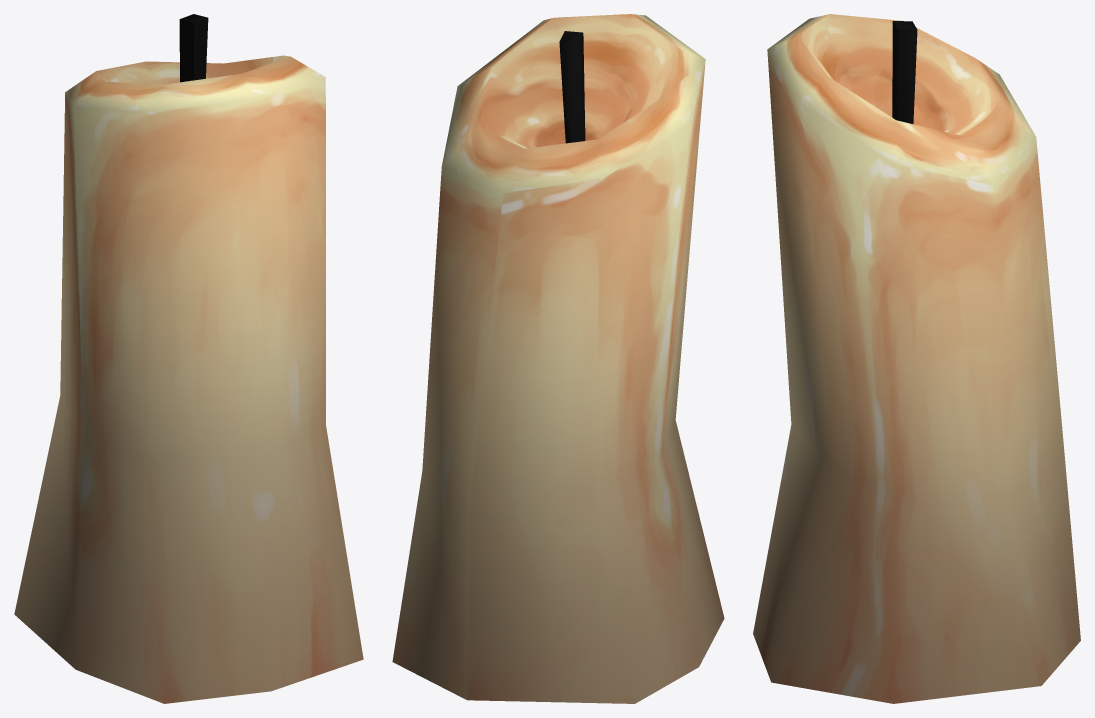
The model's file is SM_PROP_candle_01.fbx.
The picture shows the model from 3 angles, left to right: view 1: azimuth 30°, elevation 25°; view 2: azimuth 150°, elevation 25°; view 3: azimuth 270°, elevation 25°; orthographic projection.
Visible parts, largest first — view 1: SM_PROP_candle_01; view 2: SM_PROP_candle_01; view 3: SM_PROP_candle_01.
Boxes of the visible parts, left/top/right/bottom form: SM_PROP_candle_01: left=14, top=14, right=363, bottom=703; SM_PROP_candle_01: left=392, top=14, right=724, bottom=703; SM_PROP_candle_01: left=753, top=14, right=1080, bottom=703.
Bounding box in the file's own units: 16.39 × 35.5 × 17.3.
